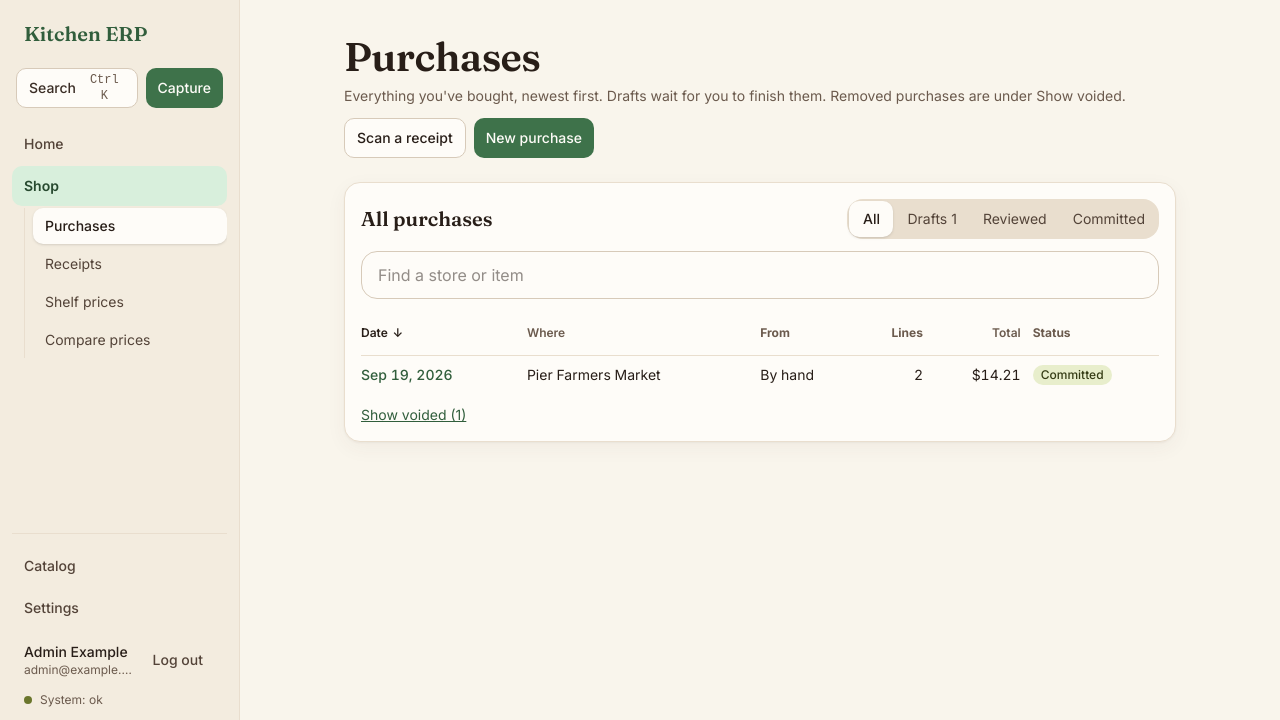
Test case: purchases: find and sort (UI-3.22) › searches on the server, says how many match, and clears a search that found nothing
Expected: the table named "Purchases" is shown, x1=361 y1=311 x2=1159 y2=393
In the field labelled "Find a store or item": (760, 275) x1=361 y1=251 x2=1159 y2=299, type "blueberries"
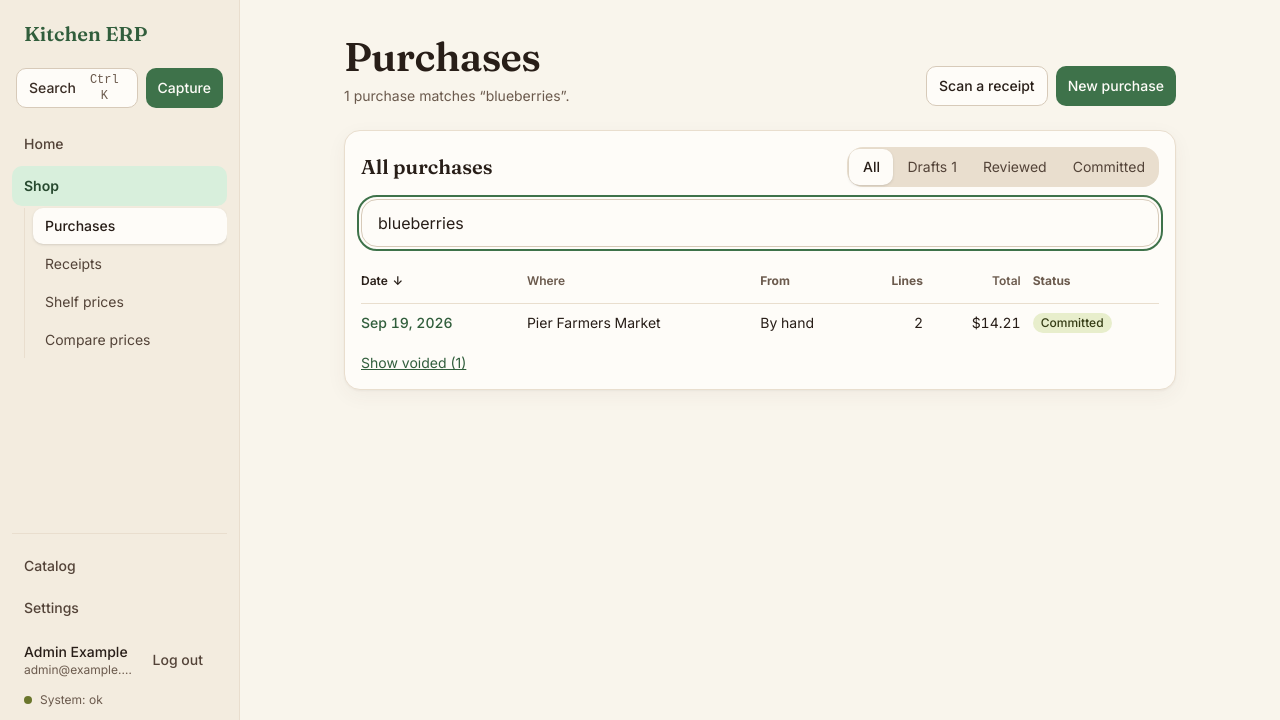
Expected: the text "1 purchase matches “blueberries”." is shown, x1=344 y1=86 x2=569 y2=106
Replace the text in the field named "Find a store or item" with "kumquat": (760, 223) x1=361 y1=199 x2=1159 y2=247
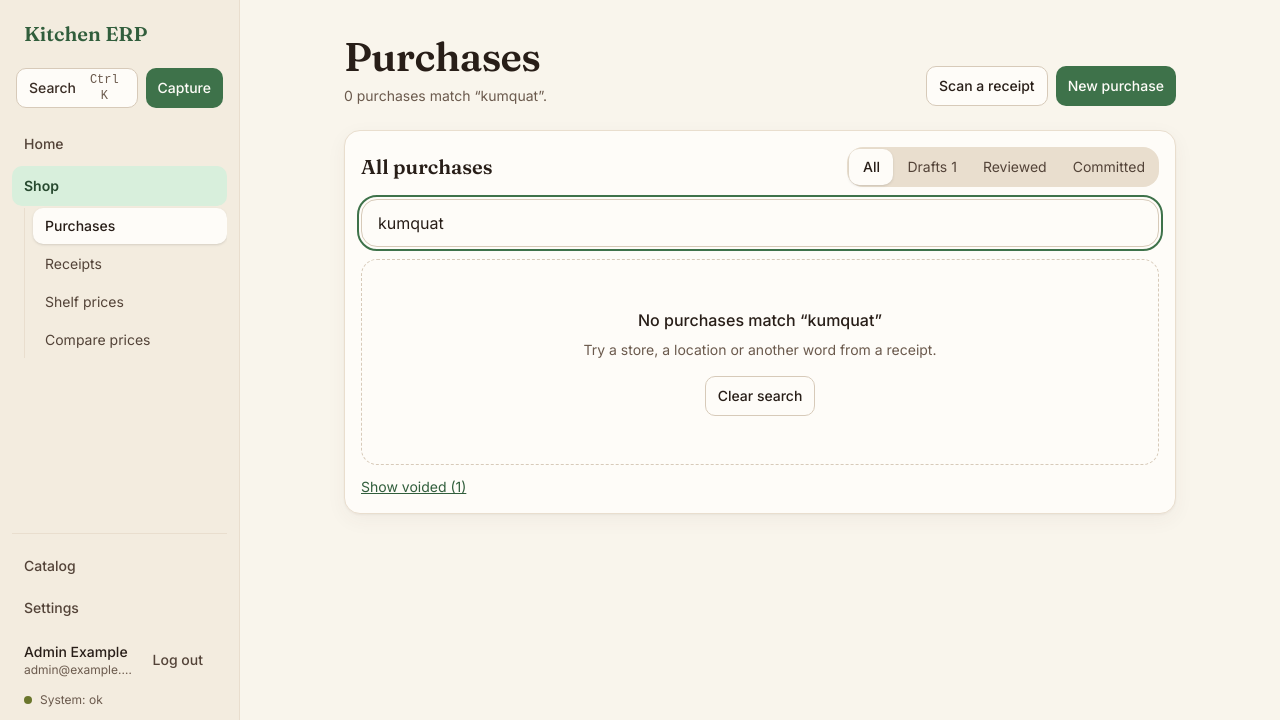
Click the button "Clear search": (760, 396) x1=705 y1=376 x2=815 y2=416
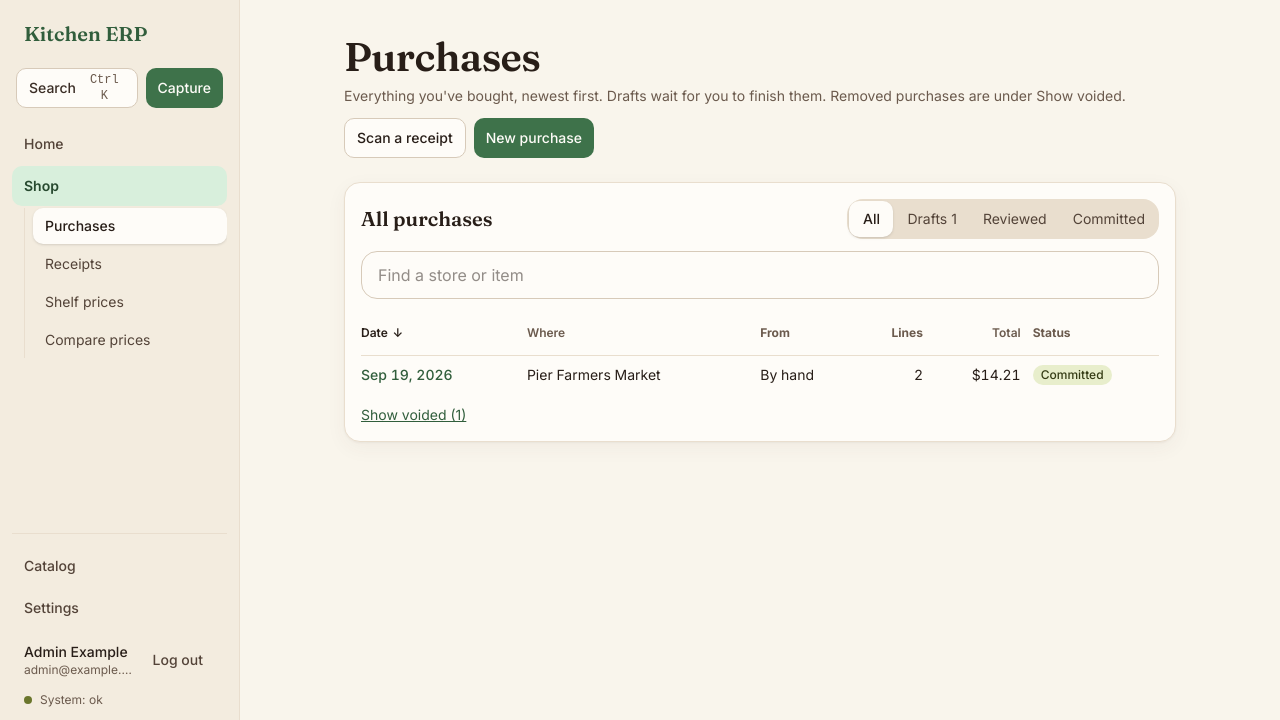
Expected: the table named "Purchases" is shown, x1=361 y1=311 x2=1159 y2=393
